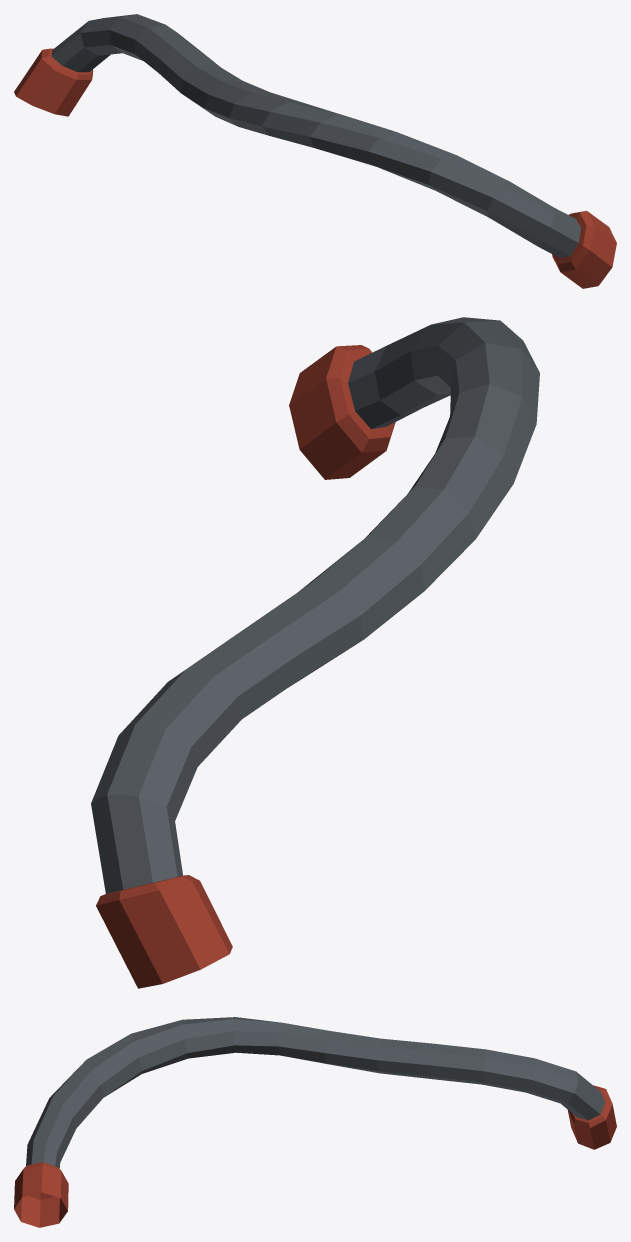
Rendered from Personal_Vehicle_04_Connecting_Tubes_2_Red.fbx.
3 views of the same model, one above another, from view 1: azimuth 30°, elevation 25°; view 2: azimuth 150°, elevation 25°; view 3: azimuth 270°, elevation 25° (orthographic). The views are drawn at different scales.
Parts seen in each view (by area): view 1: Personal_Vehicle_04_Connecting_Tubes_2_Red; view 2: Personal_Vehicle_04_Connecting_Tubes_2_Red; view 3: Personal_Vehicle_04_Connecting_Tubes_2_Red.
Part boxes in pixels (x1,y1,x2,y2): Personal_Vehicle_04_Connecting_Tubes_2_Red: (14,14,616,288); Personal_Vehicle_04_Connecting_Tubes_2_Red: (91,317,539,988); Personal_Vehicle_04_Connecting_Tubes_2_Red: (14,1017,616,1227).
Bounding box in the file's own units: 34 × 18.93 × 73.61.
1 material, 1 textured.
